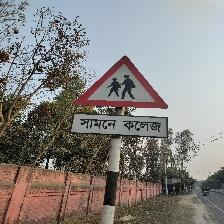College-in-front: (74, 56, 175, 148)
